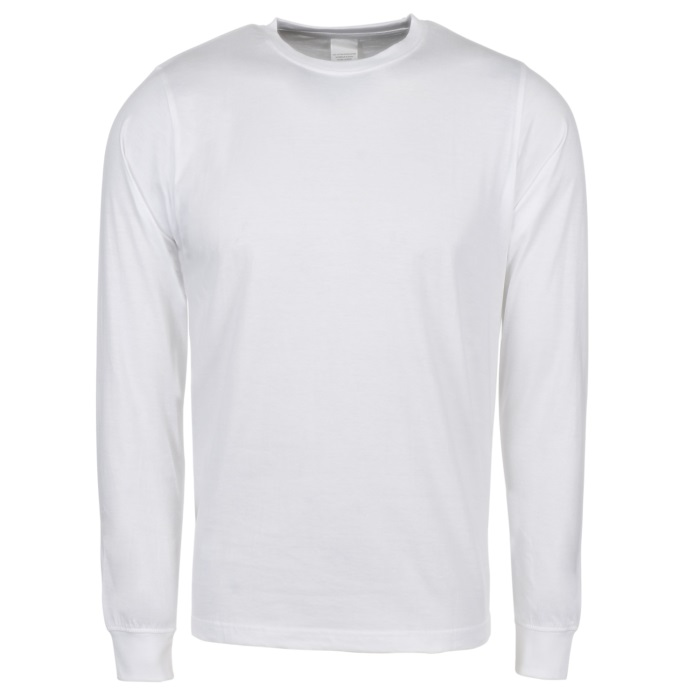T-Shirt: (92, 13, 595, 690)
